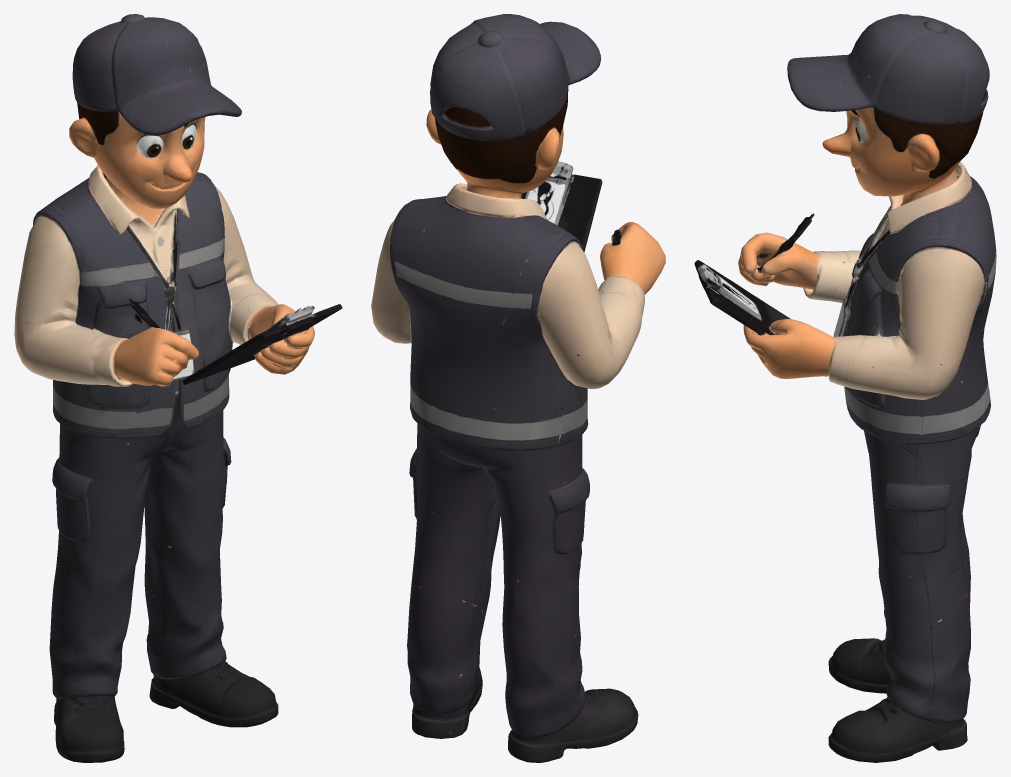
Rendered from field_inspector_muni.glb.
3 views of the same model, side by side, from view 1: azimuth 30°, elevation 25°; view 2: azimuth 150°, elevation 25°; view 3: azimuth 270°, elevation 25° (orthographic).
Size of the model in its own units: 0.6662 by 1.9 by 0.7493.
1 material, 1 textured.
